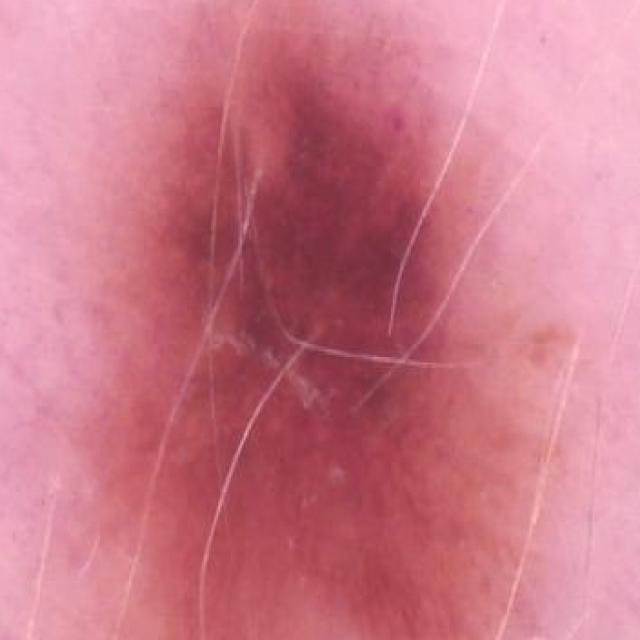NV: (45, 0, 591, 640)
